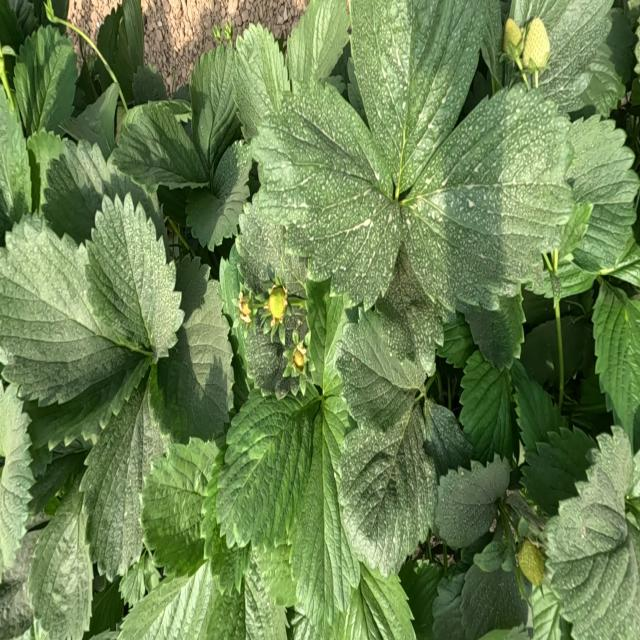Leaves: (402, 85, 577, 312), (260, 110, 404, 303), (351, 0, 494, 192), (0, 216, 134, 404), (544, 427, 640, 639), (336, 407, 437, 576), (85, 193, 184, 363), (80, 391, 168, 580), (216, 394, 319, 551), (292, 401, 359, 629), (158, 259, 234, 439), (42, 140, 164, 241), (24, 353, 150, 449), (511, 0, 612, 113), (335, 309, 426, 433), (568, 114, 640, 270), (28, 488, 93, 639), (375, 251, 443, 387), (112, 101, 208, 189), (592, 280, 640, 442), (119, 561, 214, 639), (186, 141, 251, 249), (0, 380, 35, 579), (435, 456, 510, 548), (15, 25, 77, 136), (190, 44, 240, 178), (521, 427, 596, 516), (234, 23, 291, 138), (236, 200, 306, 293), (330, 564, 416, 639), (459, 350, 515, 462), (286, 0, 350, 92), (245, 306, 308, 398), (0, 86, 32, 245), (460, 564, 527, 639), (306, 280, 346, 395), (59, 83, 119, 158), (511, 361, 559, 452), (423, 400, 473, 476), (97, 5, 133, 104), (580, 40, 625, 116), (26, 129, 64, 213), (606, 8, 635, 84), (437, 316, 474, 367), (123, 0, 144, 71), (132, 66, 167, 104), (92, 60, 110, 89)
Strawberries: (521, 17, 549, 87), (516, 538, 545, 586), (503, 18, 524, 71), (269, 286, 288, 321), (238, 291, 251, 323), (293, 345, 306, 370)
